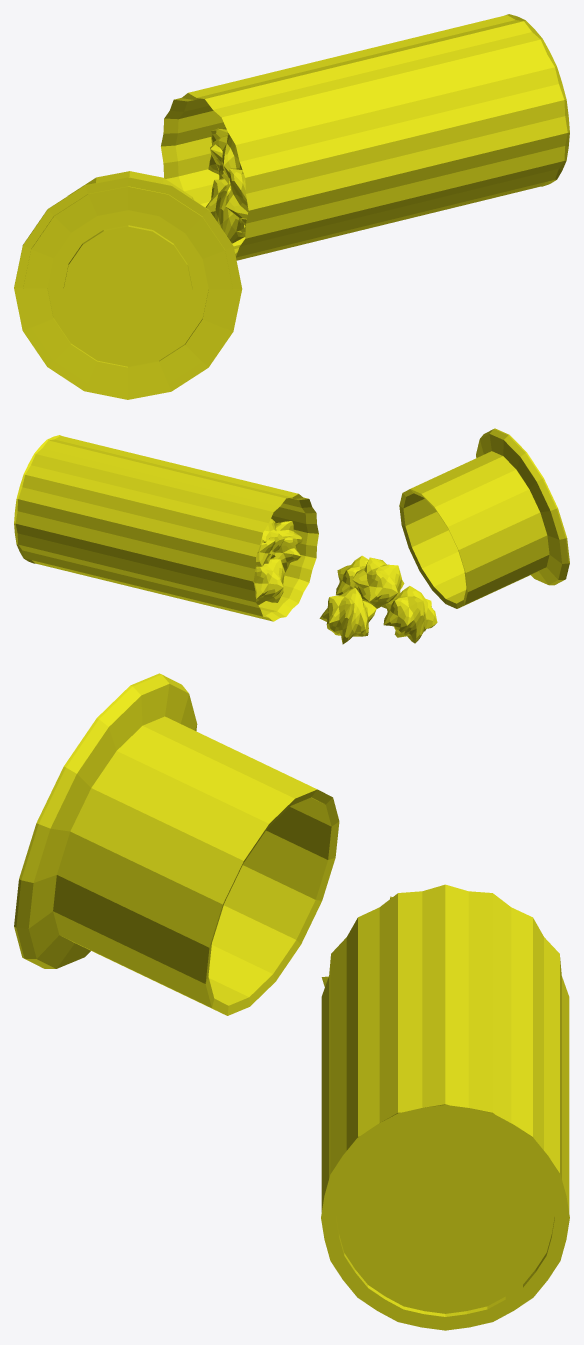
The model's file is sharpPellet 1.fbx.
3 renders of one model, top to bottom at view 1: azimuth 30°, elevation 25°; view 2: azimuth 150°, elevation 25°; view 3: azimuth 270°, elevation 25°, orthographic. The views are drawn at different scales.
Parts seen in each view (by area): view 1: BoolShotgun; view 2: BoolShotgun; view 3: BoolShotgun.
Boxes of the visible parts, left/top/right/bottom form: BoolShotgun: left=14, top=14, right=569, bottom=399; BoolShotgun: left=14, top=428, right=569, bottom=644; BoolShotgun: left=14, top=673, right=569, bottom=1330.
Bounding box in the file's own units: 796 × 263 × 449.
